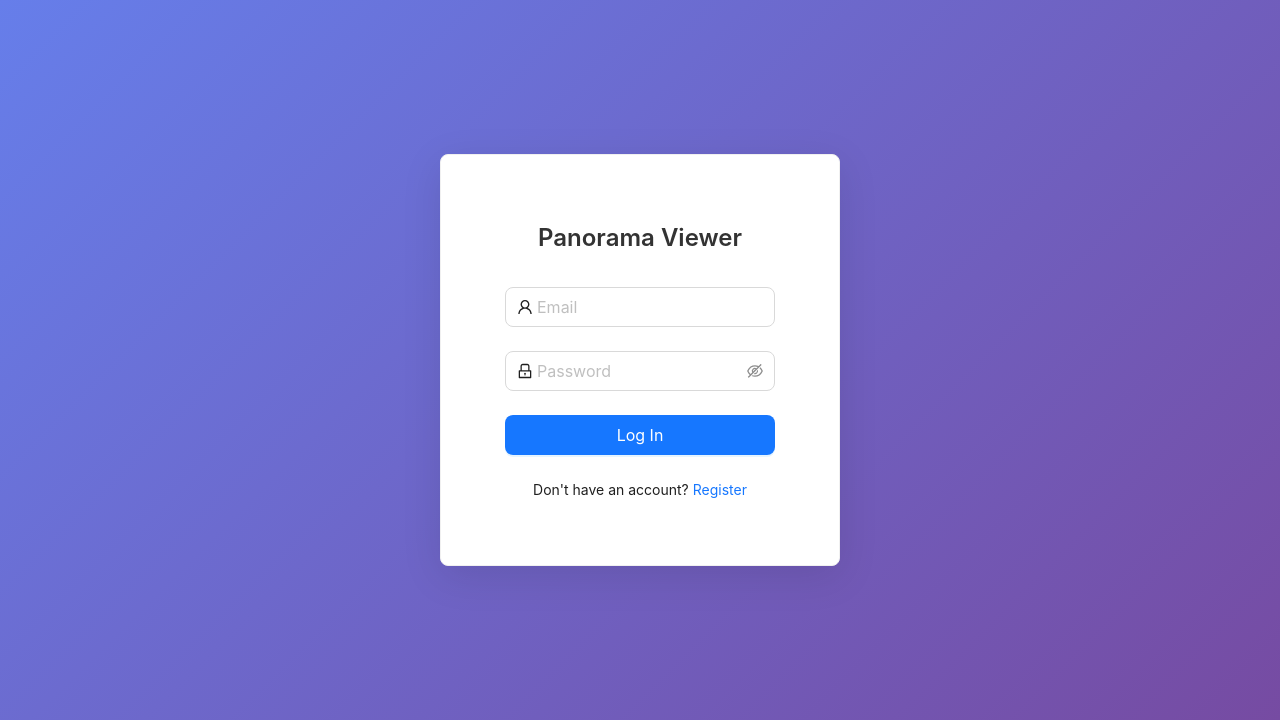
Scenario: Login Component › should show validation error for invalid email format
The image size is (1280, 720).
Type "invalid-email" into the field with placeholder "Email" at (650, 307), box [537,295,763,319]
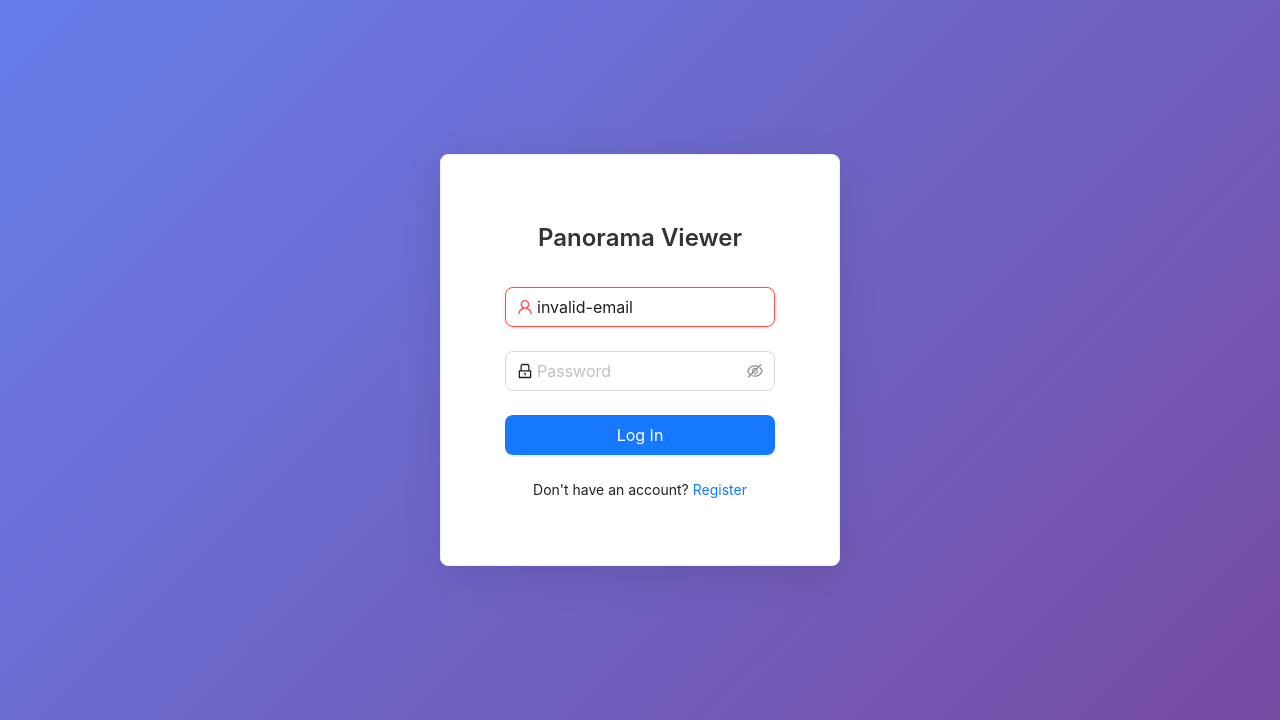
Click the button "Log In" at (640, 435), box [505,415,775,455]
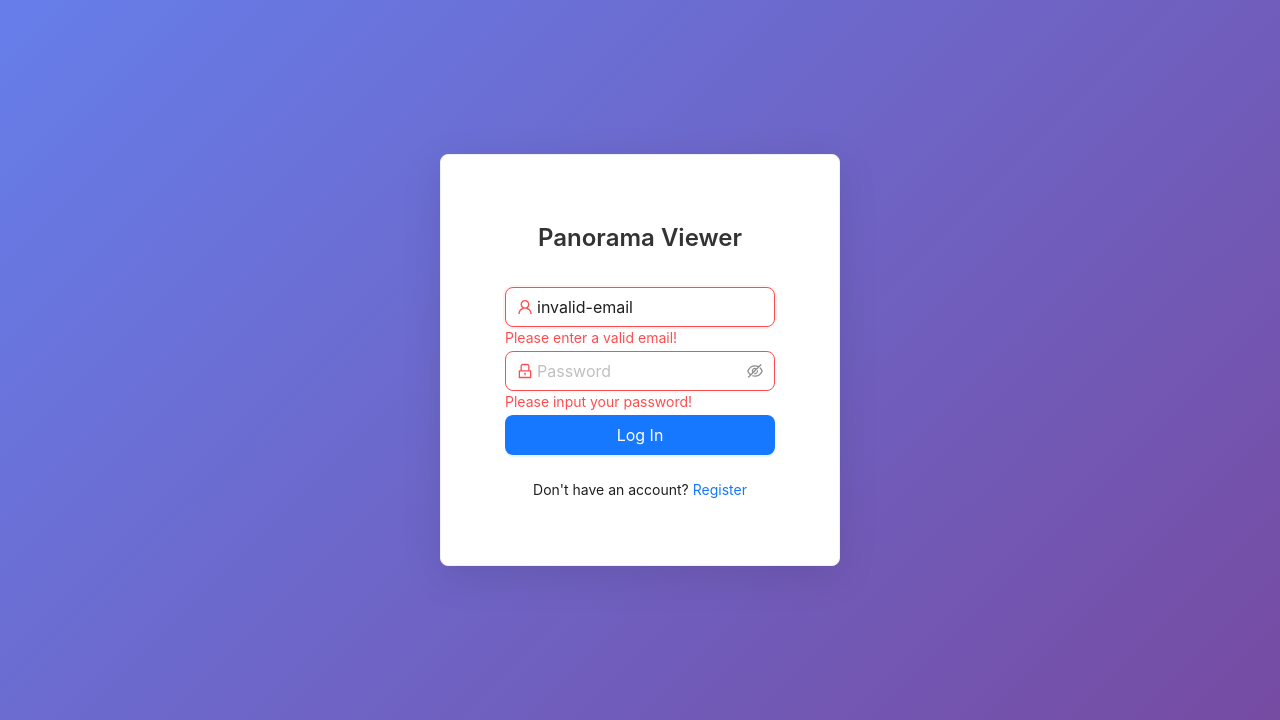
Result: the text "Please enter a valid email!" is shown at [505,329,677,346]
